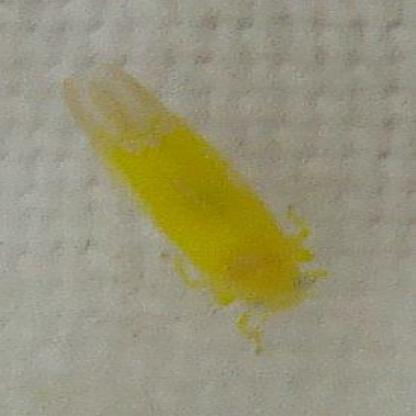green-leafhopper: (50, 66, 332, 325)
